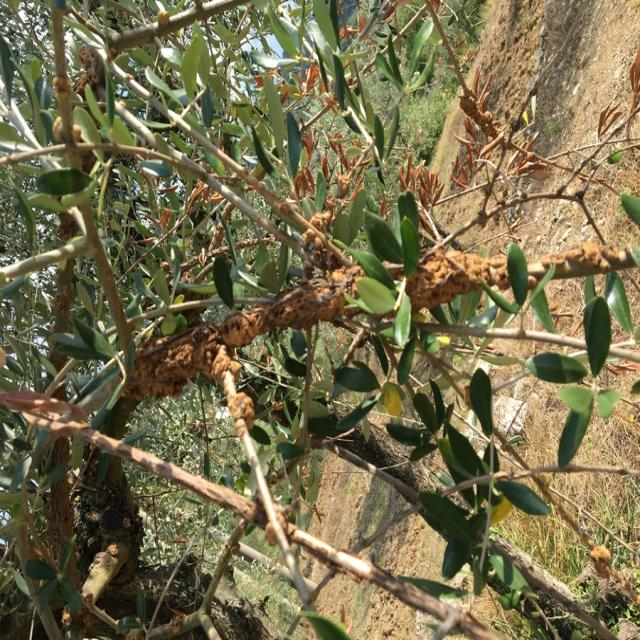Tuberculosis: (219, 265, 361, 347), (124, 323, 216, 397), (405, 248, 510, 311), (528, 243, 634, 280), (302, 211, 336, 259), (211, 345, 240, 388), (228, 392, 254, 437), (590, 545, 612, 581), (171, 613, 184, 633), (106, 540, 119, 558)
